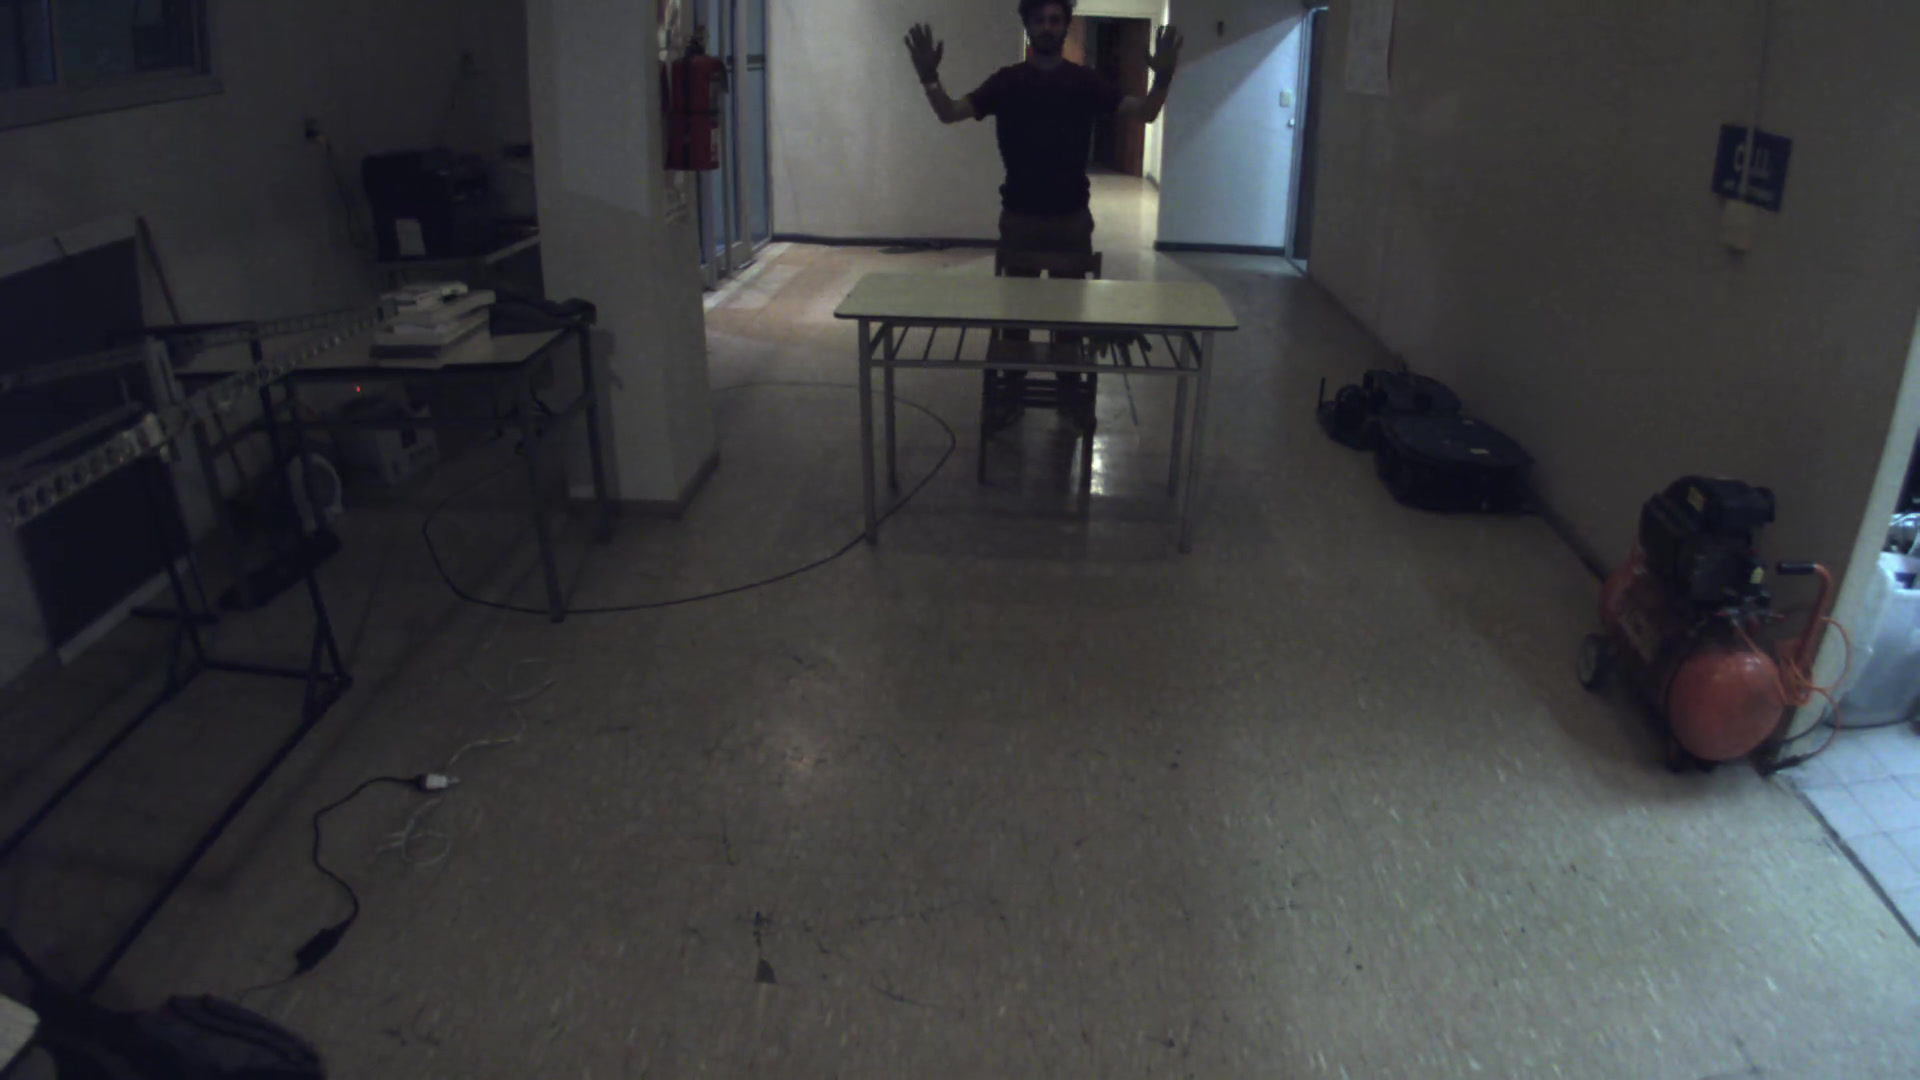hand: (1129, 15, 1200, 92), (899, 20, 957, 105)
